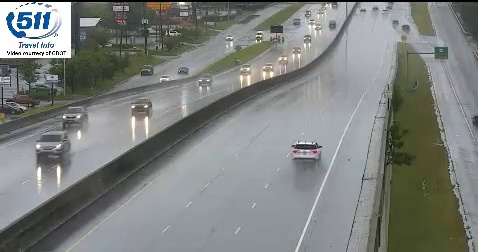car: (292, 141, 321, 161)
